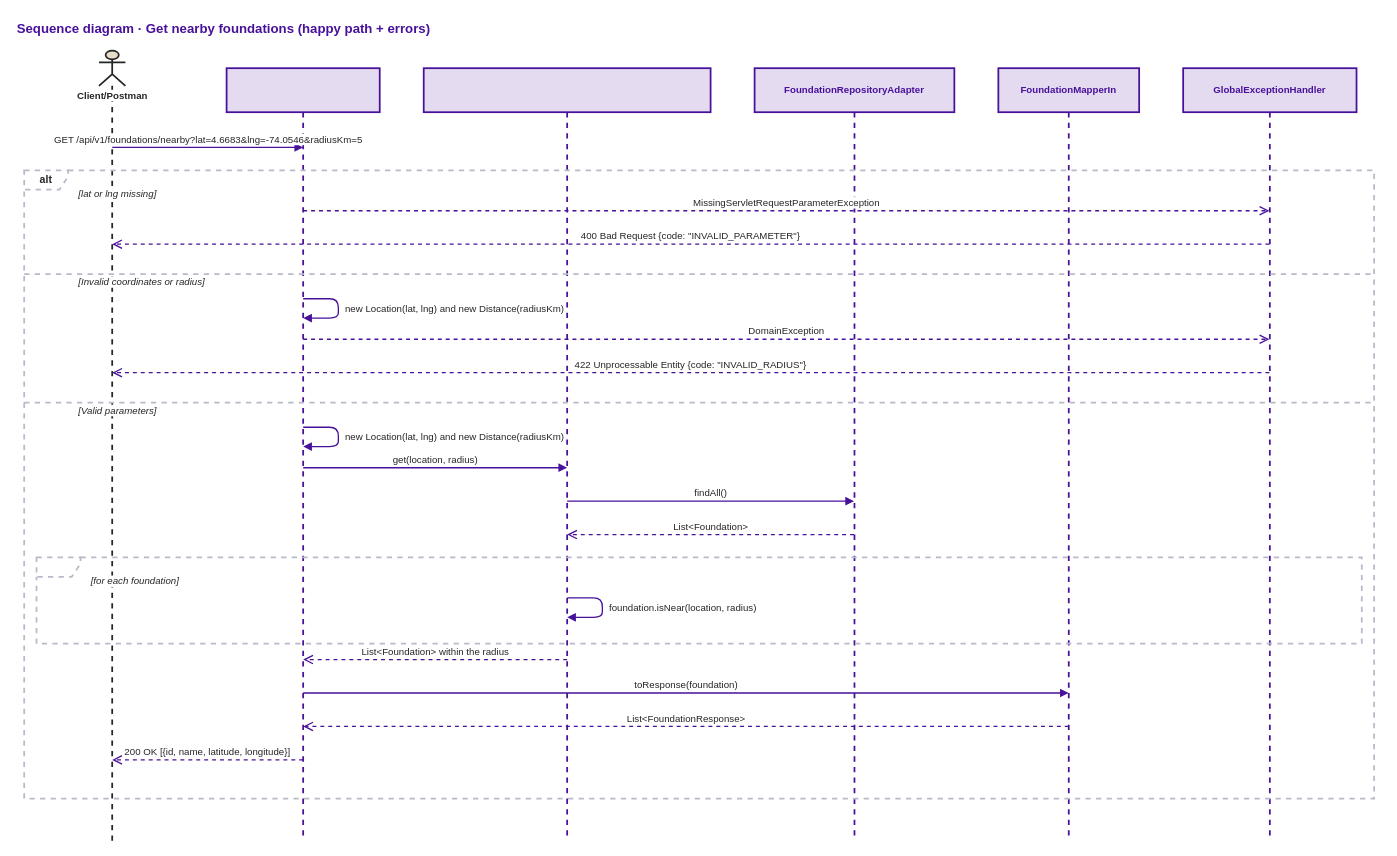
This 1397x856 diagram has some shape labels left out. The shapes that lost their labels are listed below. From the top down, each one's box as (x1, y1, x2, y2) in pixels, then its label:
(225, 67, 380, 841): FoundationController
(422, 67, 711, 841): GetNearbyFoundationsUseCaseImpl
(35, 556, 1362, 644): loop
